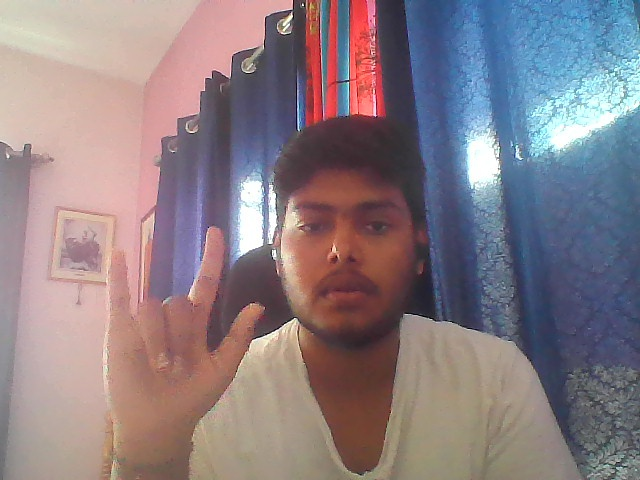I Love You: (98, 222, 268, 449)
